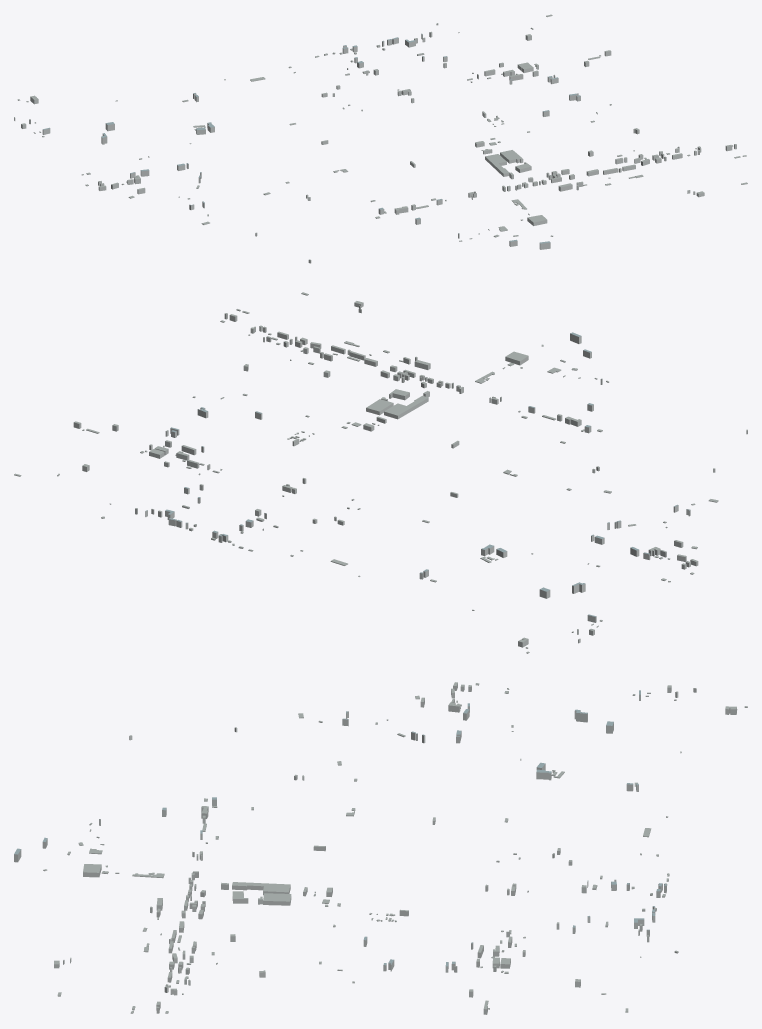
File: far.glb
The picture shows the model from 3 angles, top to bottom: view 1: azimuth 30°, elevation 25°; view 2: azimuth 150°, elevation 25°; view 3: azimuth 270°, elevation 25°; orthographic projection. The views are drawn at different scales.
Size of the model in its own units: 2083 by 25.3 by 1953.
